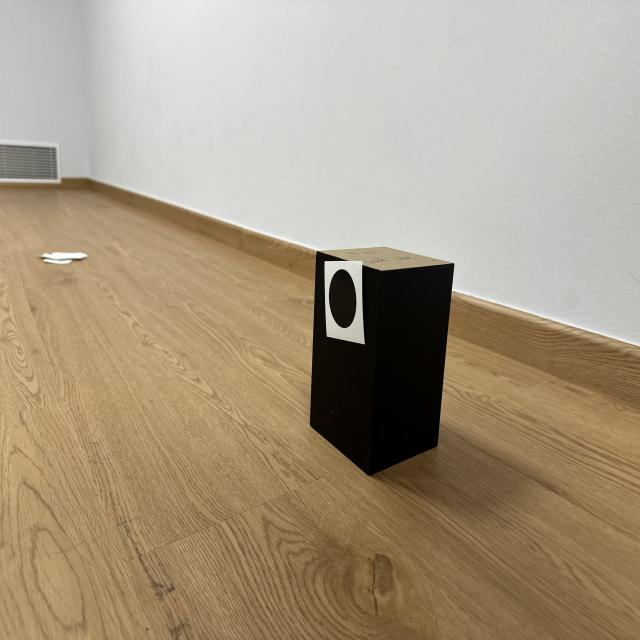CIRCLE: (329, 270, 356, 328)
